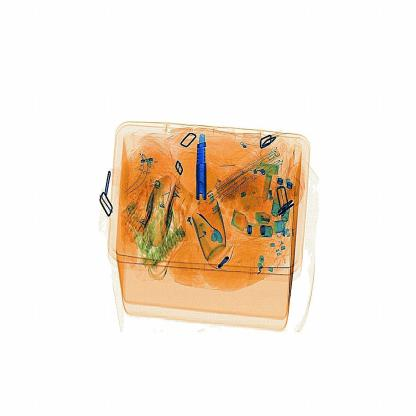pliers: (187, 122, 220, 205)
